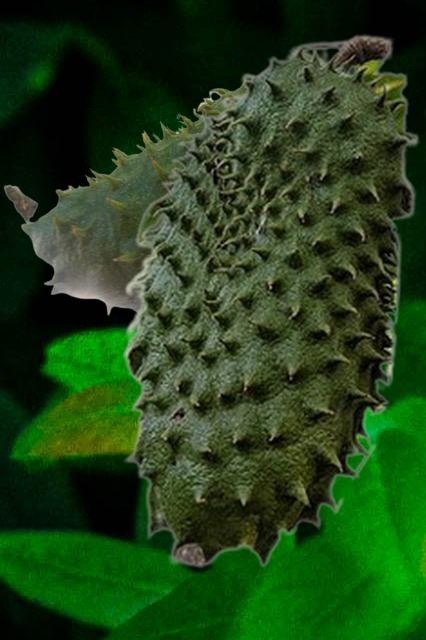guyabano: (121, 33, 418, 568), (3, 85, 243, 316)
